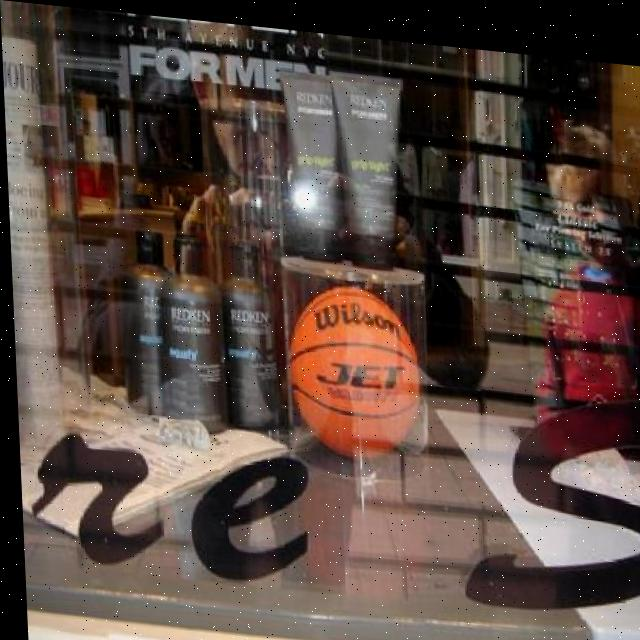Basketball: (285, 278, 425, 467)
